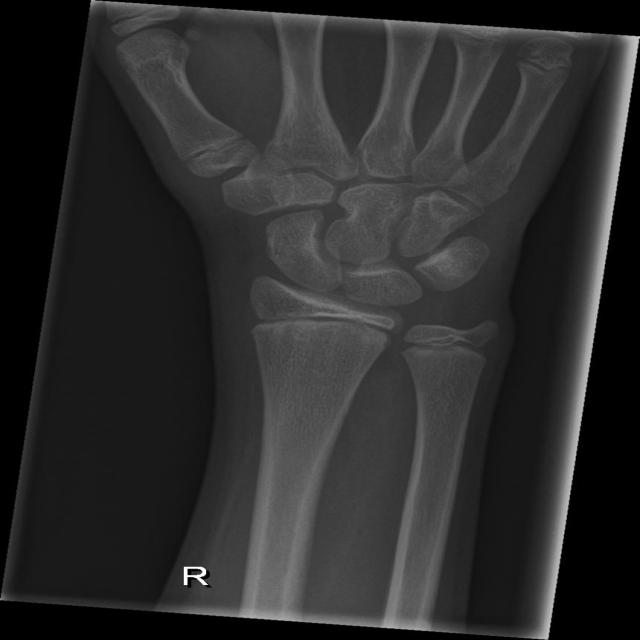fracture: (237, 298, 407, 357), (384, 319, 504, 371)
